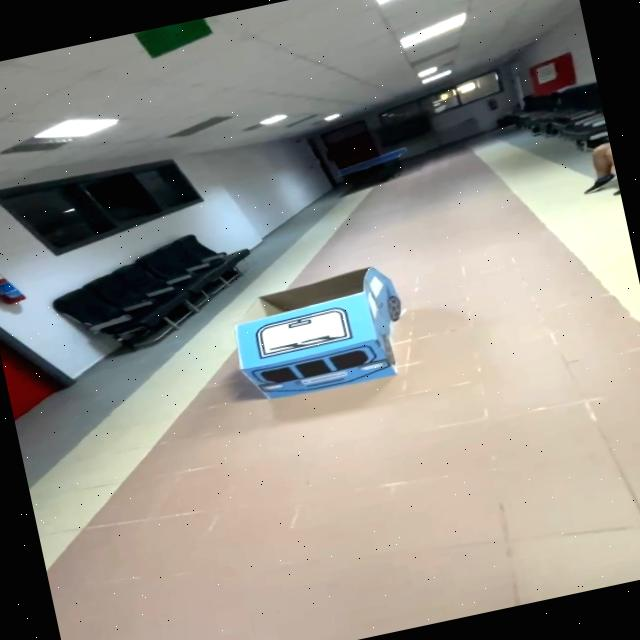blue_car: (204, 247, 425, 429)
